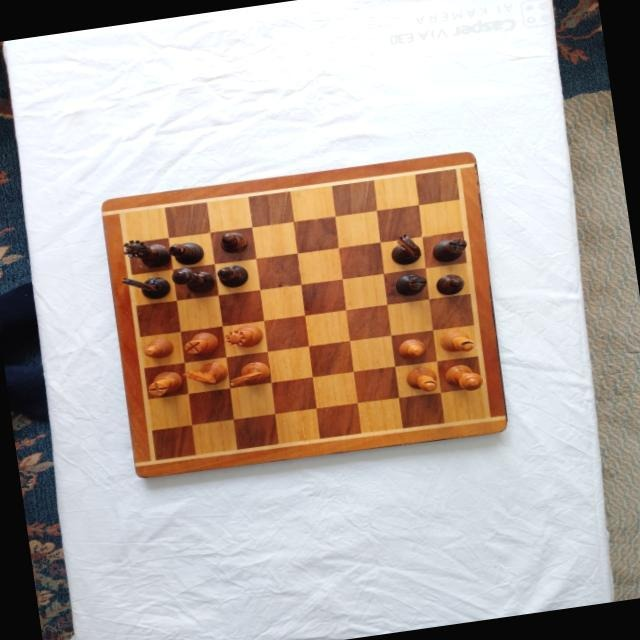black-bishop: (166, 239, 205, 268), (214, 262, 249, 290)
black-king: (169, 263, 215, 297)
black-knight: (122, 272, 171, 304), (389, 233, 423, 267)
black-pawn: (218, 231, 249, 257), (434, 272, 466, 297)
black-queen: (120, 235, 170, 273)
black-rook: (430, 236, 469, 264), (394, 272, 429, 298)
white-bishop: (438, 328, 475, 356), (406, 365, 438, 395)
white-king: (443, 362, 485, 394)
white-knight: (180, 361, 228, 389), (227, 360, 271, 388)
white-pawn: (396, 337, 427, 363), (142, 337, 174, 361)
white-queen: (222, 324, 264, 351)
white-rook: (144, 370, 183, 398), (181, 330, 218, 357)
